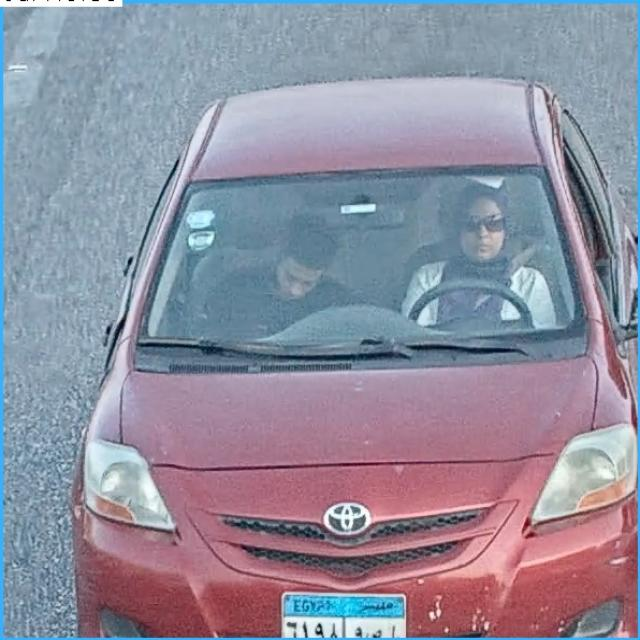windshield: (138, 182, 586, 350)
